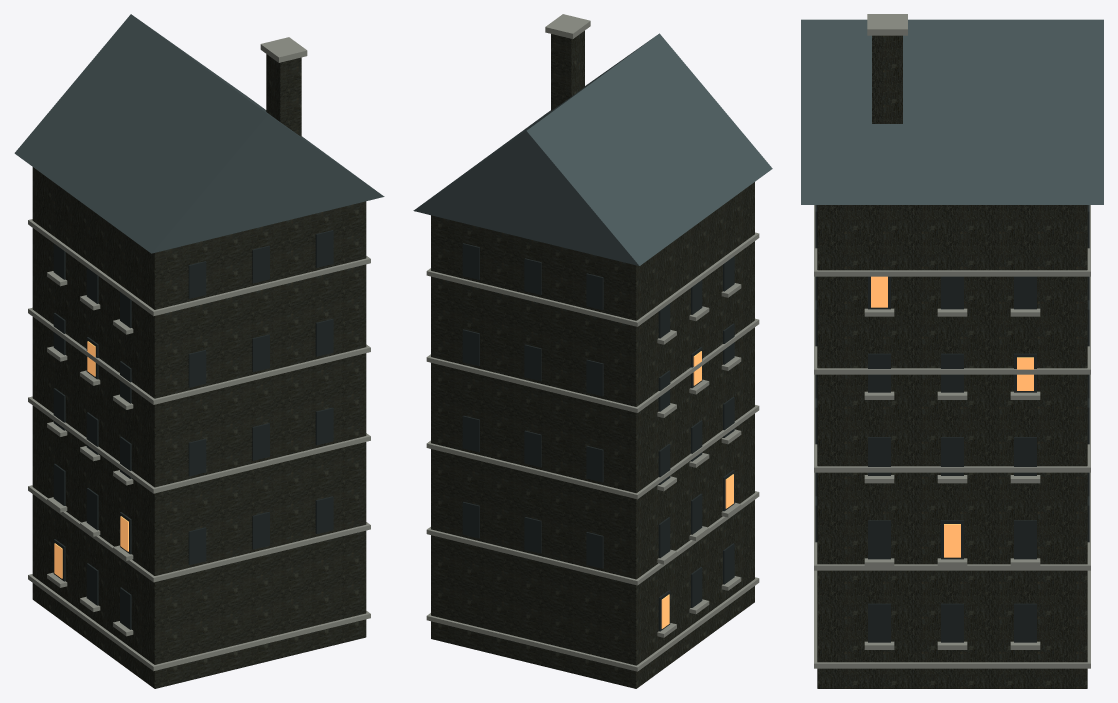
The model's file is skyline_house.glb.
The picture shows the model from 3 angles, left to right: view 1: azimuth 30°, elevation 25°; view 2: azimuth 150°, elevation 25°; view 3: azimuth 270°, elevation 25°; orthographic projection. The views are drawn at different scales.
Visible parts, largest first — view 1: Masonry shell, Steep gable roof, String course, Window recess, Dim amber pane; view 2: Masonry shell, Steep gable roof, String course, Window recess, Dim amber pane; view 3: Masonry shell, Steep gable roof, String course, Window recess, Dim amber pane.
Part boxes in pixels (x1,y1,x2,y2): Masonry shell: (32, 54, 366, 688); Steep gable roof: (14, 14, 384, 253); String course: (28, 37, 370, 671); Window recess: (53, 230, 333, 629); Dim amber pane: (54, 341, 128, 578); Masonry shell: (431, 30, 754, 688); Steep gable roof: (413, 33, 772, 265); String course: (426, 14, 759, 671); Window recess: (462, 243, 734, 631); Dim amber pane: (661, 351, 733, 628); Masonry shell: (817, 35, 1087, 688); Steep gable roof: (801, 19, 1103, 204); String course: (814, 14, 1090, 668); Window recess: (815, 205, 1089, 642); Dim amber pane: (871, 276, 1033, 557).
Bounding box in the file's own units: 11 × 26.12 × 11.2.
Materials: 5 (1 with a texture image).
